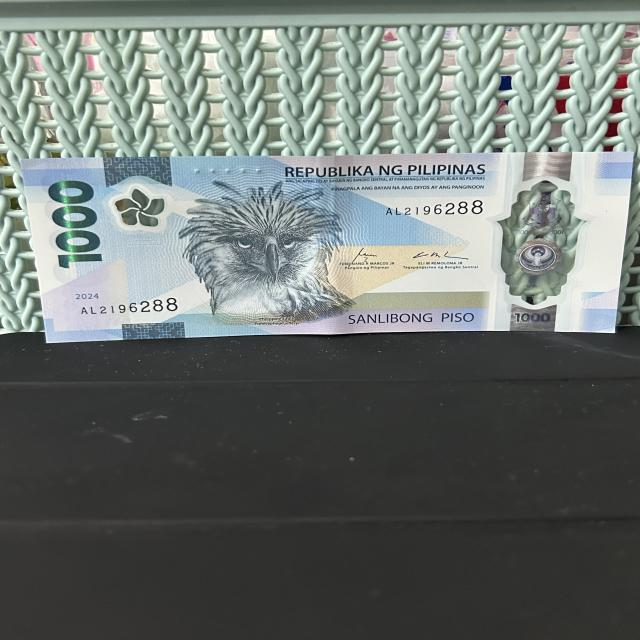clear_window: (491, 180, 584, 302)
eagle: (190, 190, 340, 326)
sampaguita: (108, 180, 164, 228)
